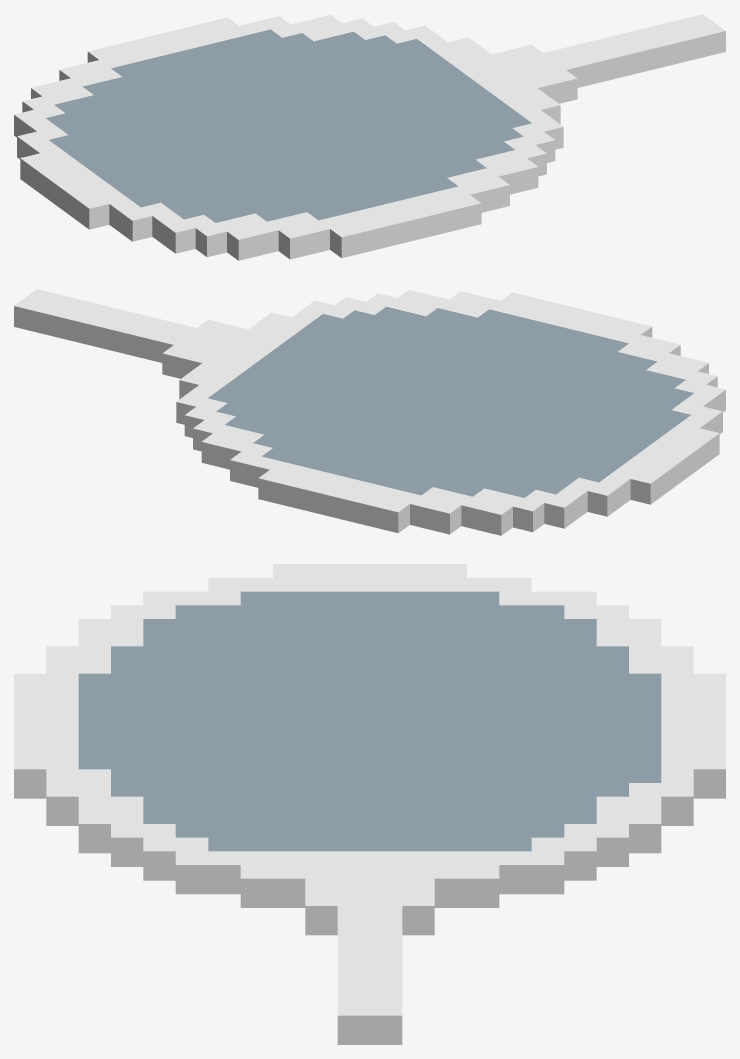
Rendered from specchio.gltf.
3 renders of one model, top to bottom at view 1: azimuth 30°, elevation 25°; view 2: azimuth 150°, elevation 25°; view 3: azimuth 270°, elevation 25°, orthographic. The views are drawn at different scales.
Parts seen in each view (by area): view 1: Layer.2, Layer.1; view 2: Layer.2, Layer.1; view 3: Layer.2, Layer.1.
Part boxes in pixels (<box>): Layer.2: <box>46,29,625,222</box>; Layer.1: <box>14,14,725,260</box>; Layer.2: <box>114,306,693,497</box>; Layer.1: <box>14,289,725,535</box>; Layer.2: <box>78,591,661,946</box>; Layer.1: <box>14,564,725,1044</box>.
Bounding box in the file's own units: 33 × 1 × 22.
Materials: 1 (1 with a texture image).
